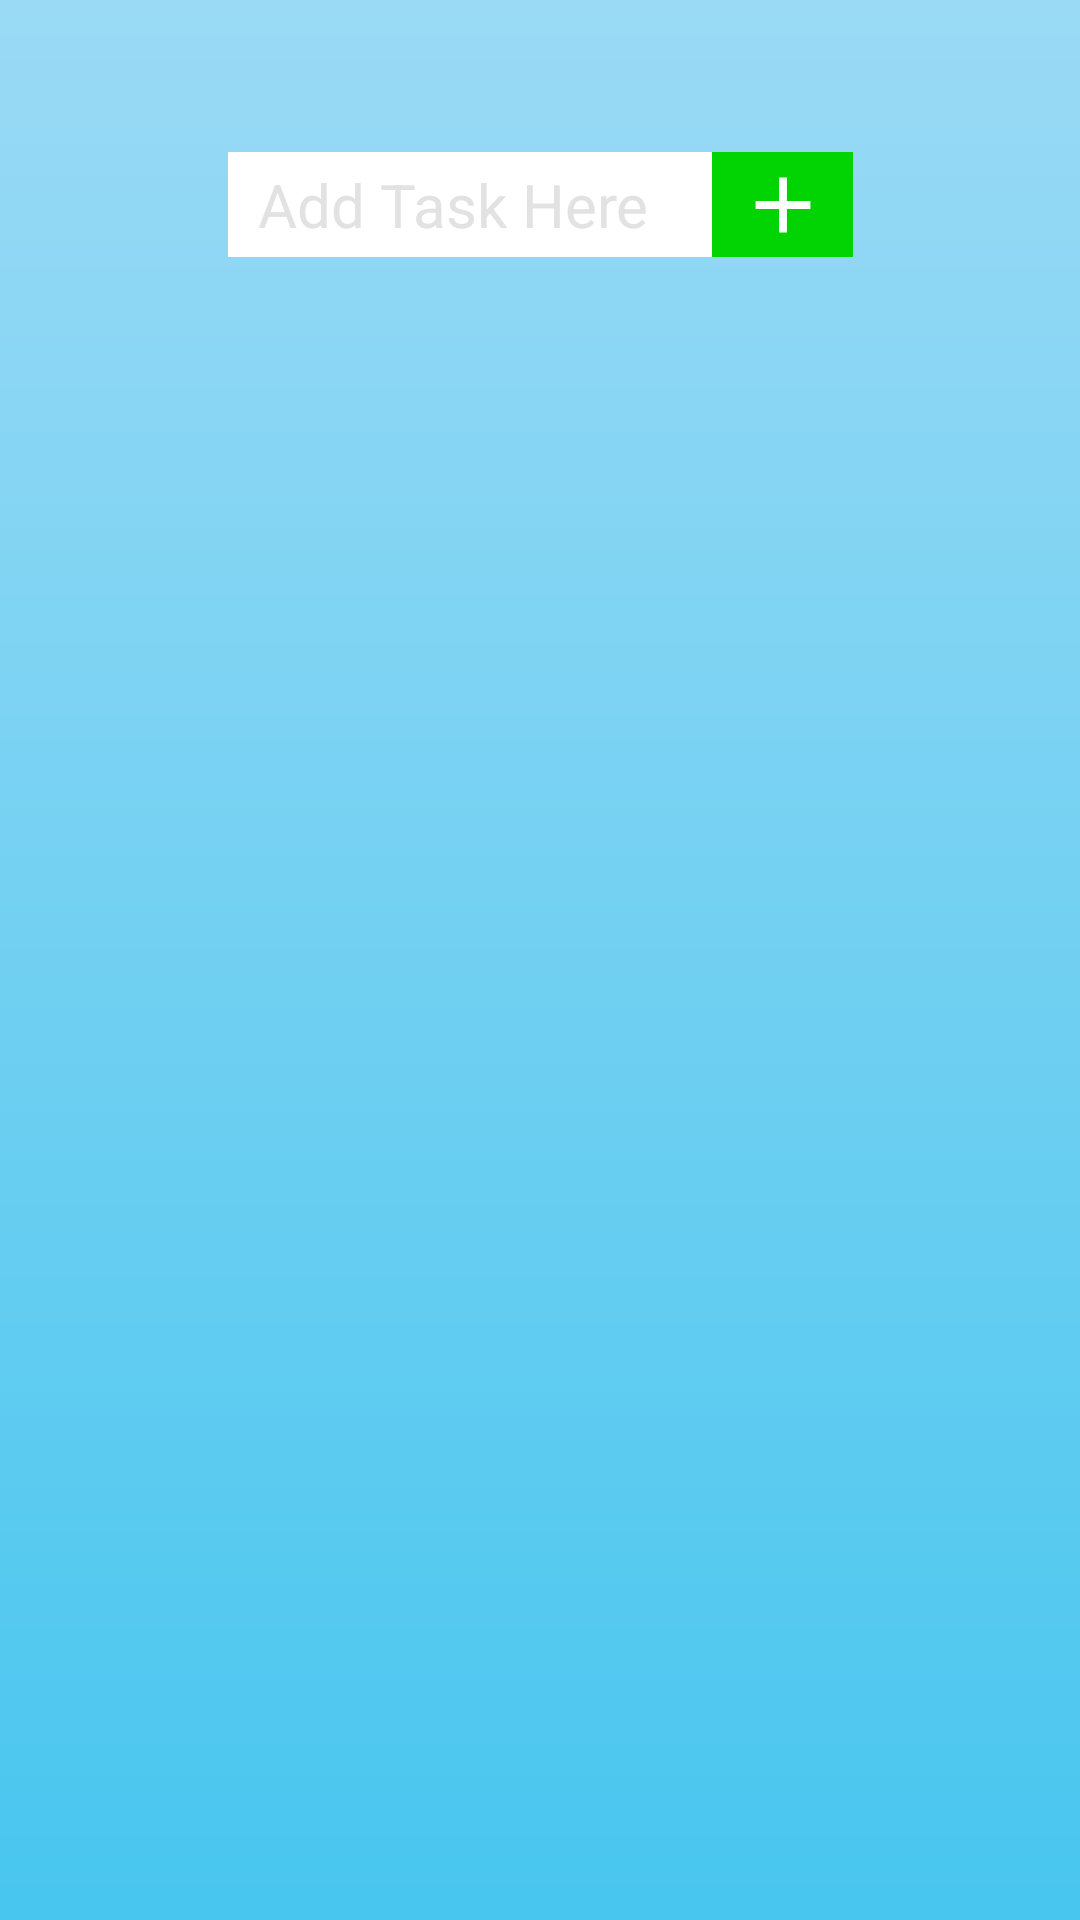

Icons on this 1080 x 1920 Android screen, each with the point to tap as point (x, y):
btnaddtask: point (782, 204)
